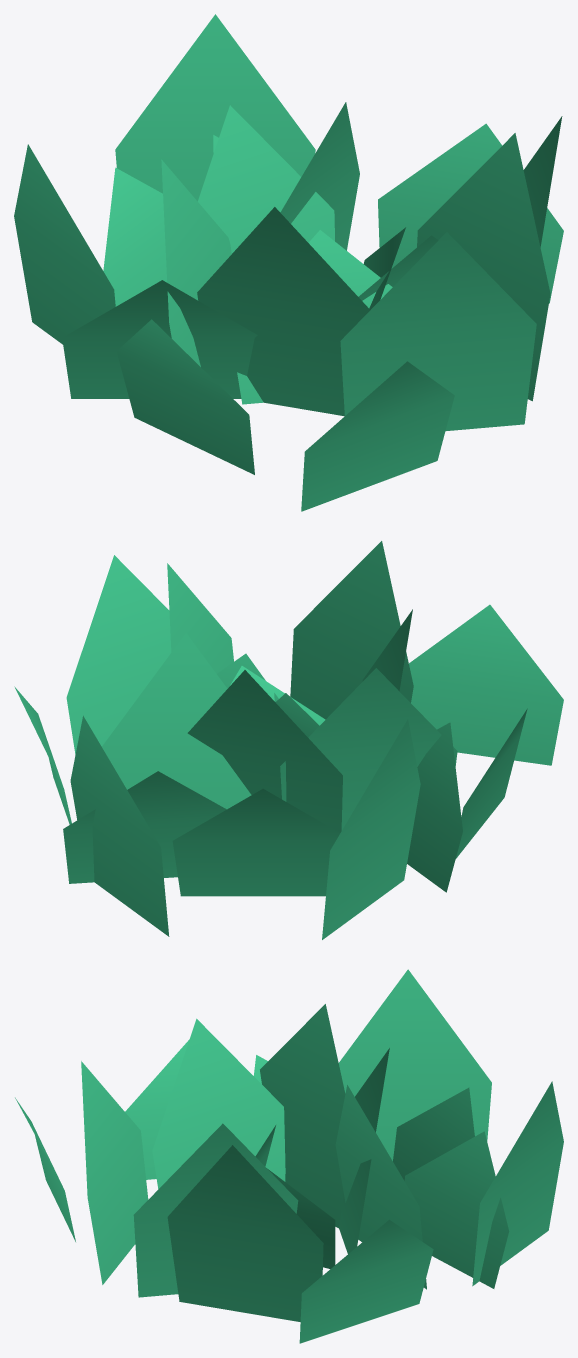
File: Mowed Grass High LOD.glb
The picture shows the model from 3 angles, top to bottom: view 1: azimuth 30°, elevation 25°; view 2: azimuth 150°, elevation 25°; view 3: azimuth 270°, elevation 25°; orthographic projection. The views are drawn at different scales.
Parts seen in each view (by area): view 1: Mowed Grass High LOD; view 2: Mowed Grass High LOD; view 3: Mowed Grass High LOD.
Part boxes in pixels (x1=…): Mowed Grass High LOD: x1=14, y1=14, x2=563, y2=511; Mowed Grass High LOD: x1=14, y1=541, x2=563, y2=939; Mowed Grass High LOD: x1=15, y1=969, x2=563, y2=1343.
Bounding box in the file's own units: 0.4313 × 0.19 × 0.5044.
